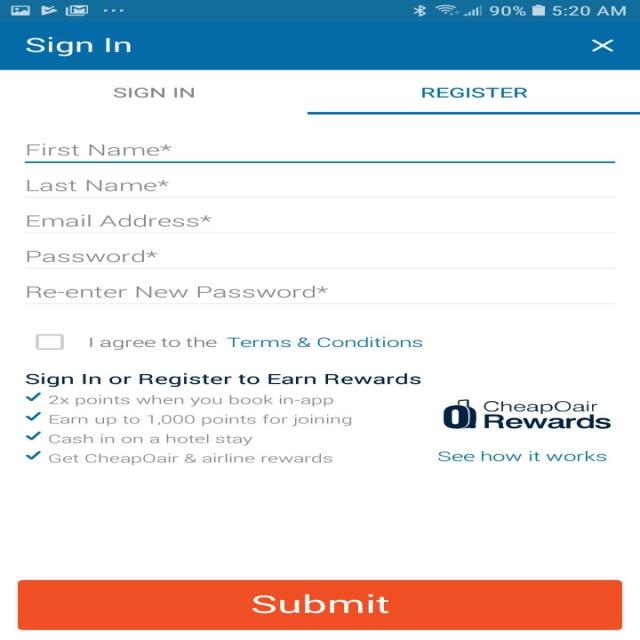EditText: (24, 142, 615, 163), (25, 284, 615, 304), (24, 214, 615, 233), (24, 249, 614, 268), (24, 180, 614, 198)
Icon: (590, 39, 614, 52), (25, 411, 42, 421), (25, 450, 42, 460), (25, 431, 42, 440), (26, 392, 42, 401)
Image: (442, 398, 477, 429)
Text: (24, 372, 420, 387), (89, 336, 423, 350), (482, 400, 610, 429), (48, 452, 332, 465), (49, 414, 351, 426), (27, 286, 328, 298), (48, 394, 334, 406), (48, 433, 252, 445), (28, 214, 212, 227), (26, 36, 132, 56), (438, 450, 606, 462), (27, 143, 172, 156), (27, 180, 170, 192), (26, 250, 158, 262), (421, 87, 527, 98), (113, 87, 194, 98)
TextButton: (16, 579, 622, 630)
